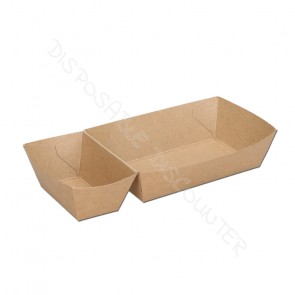Rec_Paper: (21, 91, 278, 223)
